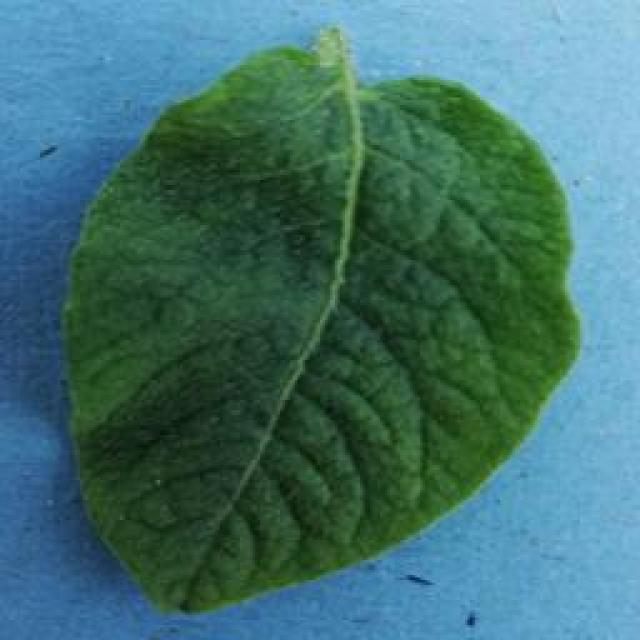Potato_Healthy: (67, 28, 582, 612)
